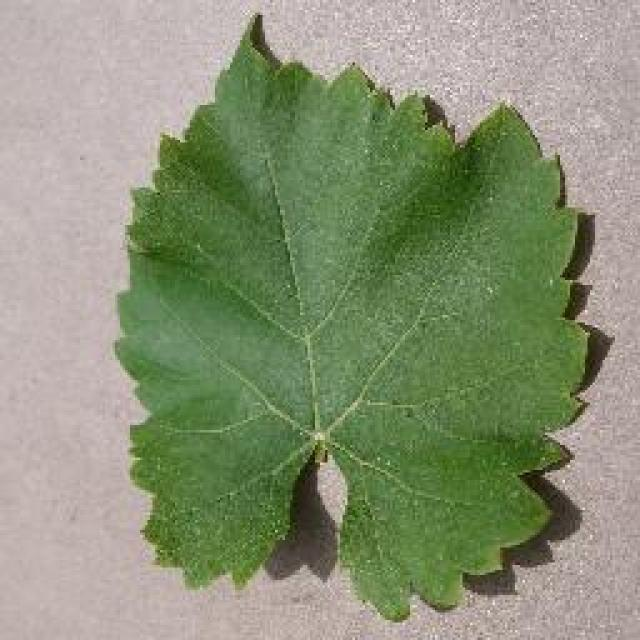Healthy: (93, 30, 612, 620)
